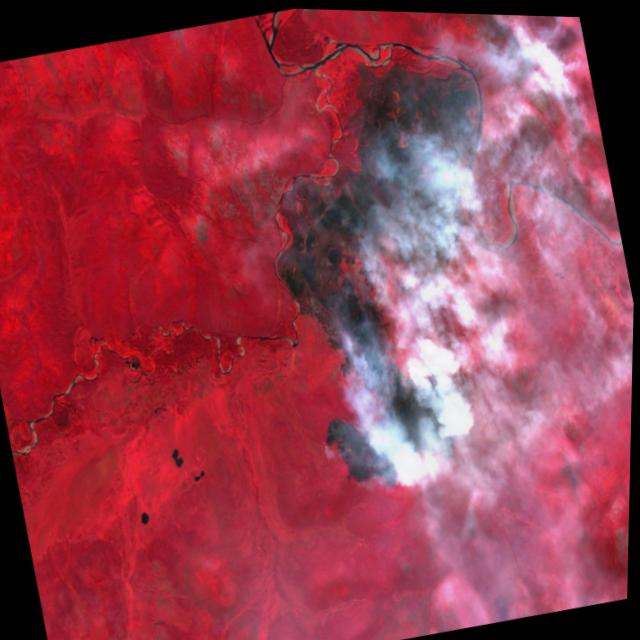fire: (289, 270, 485, 509)
